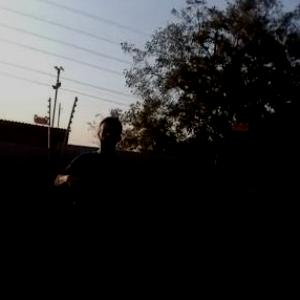follow: (47, 110, 142, 299)
